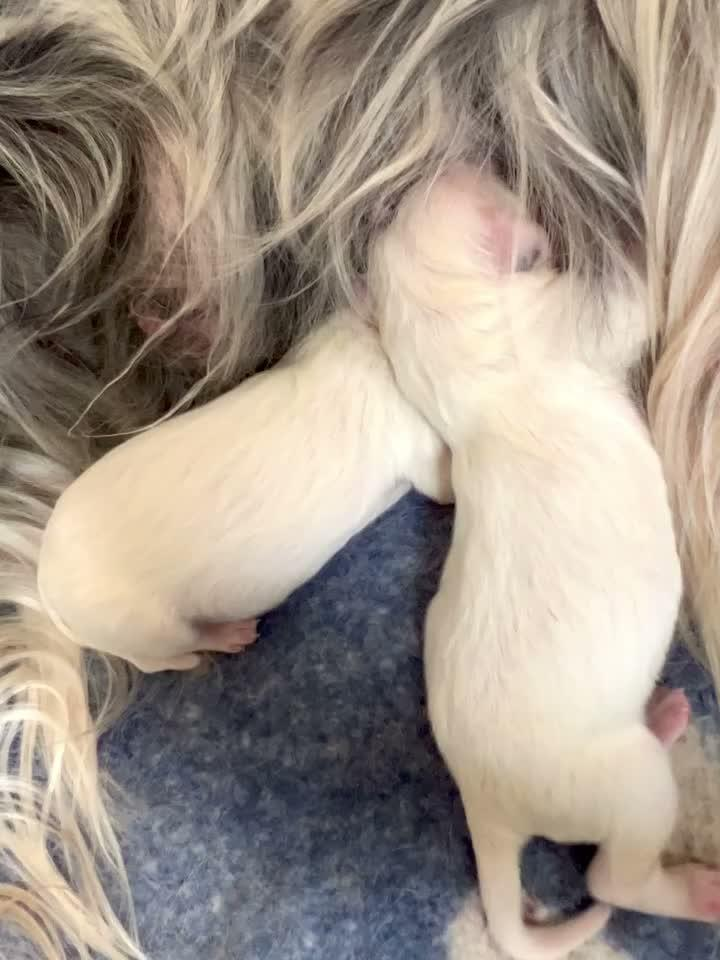adult_dog: (0, 0, 720, 960)
puppy-dog: (365, 148, 720, 959), (32, 297, 458, 677)
